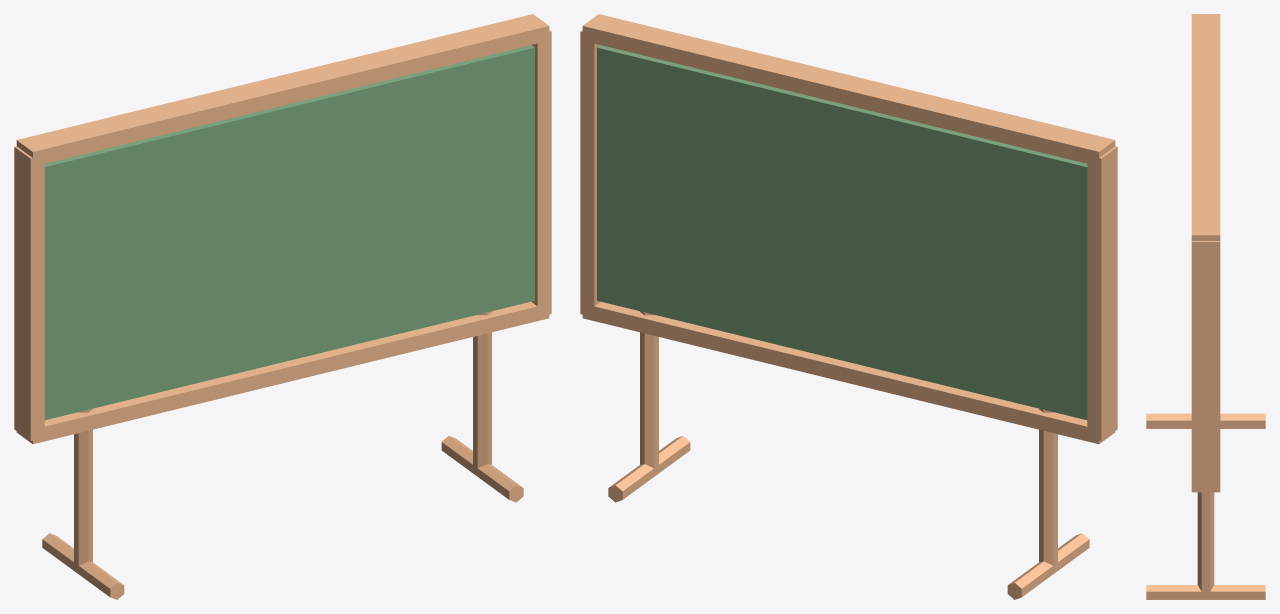
The picture shows the model from 3 angles, left to right: view 1: azimuth 30°, elevation 25°; view 2: azimuth 150°, elevation 25°; view 3: azimuth 270°, elevation 25°; orthographic projection. The views are drawn at different scales.
Parts seen in each view (by area): view 1: Board, Rail.001, Rail, Frame, Frame.001, Post.001, Post, Foot, Foot.001; view 2: Board, Rail.001, Rail, Frame, Frame.001, Post.001, Post, Foot, Foot.001; view 3: Frame.001, Rail.001, Post.001, Foot.001, Foot.
Part boxes in pixels (bbox=[...]): Board: bbox=[44, 45, 534, 420]; Rail.001: bbox=[16, 14, 549, 165]; Rail: bbox=[16, 302, 549, 444]; Frame: bbox=[14, 146, 44, 440]; Frame.001: bbox=[531, 30, 551, 317]; Post.001: bbox=[473, 311, 491, 470]; Post: bbox=[74, 408, 92, 565]; Foot: bbox=[42, 533, 124, 599]; Foot.001: bbox=[441, 436, 523, 502]; Board: bbox=[597, 45, 1087, 420]; Rail.001: bbox=[582, 14, 1115, 165]; Rail: bbox=[582, 302, 1115, 444]; Frame: bbox=[1087, 146, 1117, 440]; Frame.001: bbox=[580, 30, 600, 317]; Post.001: bbox=[640, 311, 658, 470]; Post: bbox=[1039, 408, 1057, 565]; Foot: bbox=[1007, 533, 1089, 599]; Foot.001: bbox=[608, 436, 690, 502]; Frame.001: bbox=[1191, 241, 1220, 489]; Rail.001: bbox=[1191, 14, 1220, 240]; Post.001: bbox=[1197, 492, 1214, 594]; Foot.001: bbox=[1146, 585, 1265, 599]; Foot: bbox=[1146, 413, 1265, 428].
Bounding box in the file's own units: 2.22 × 1.8 × 0.5.
1 material, 1 textured.
